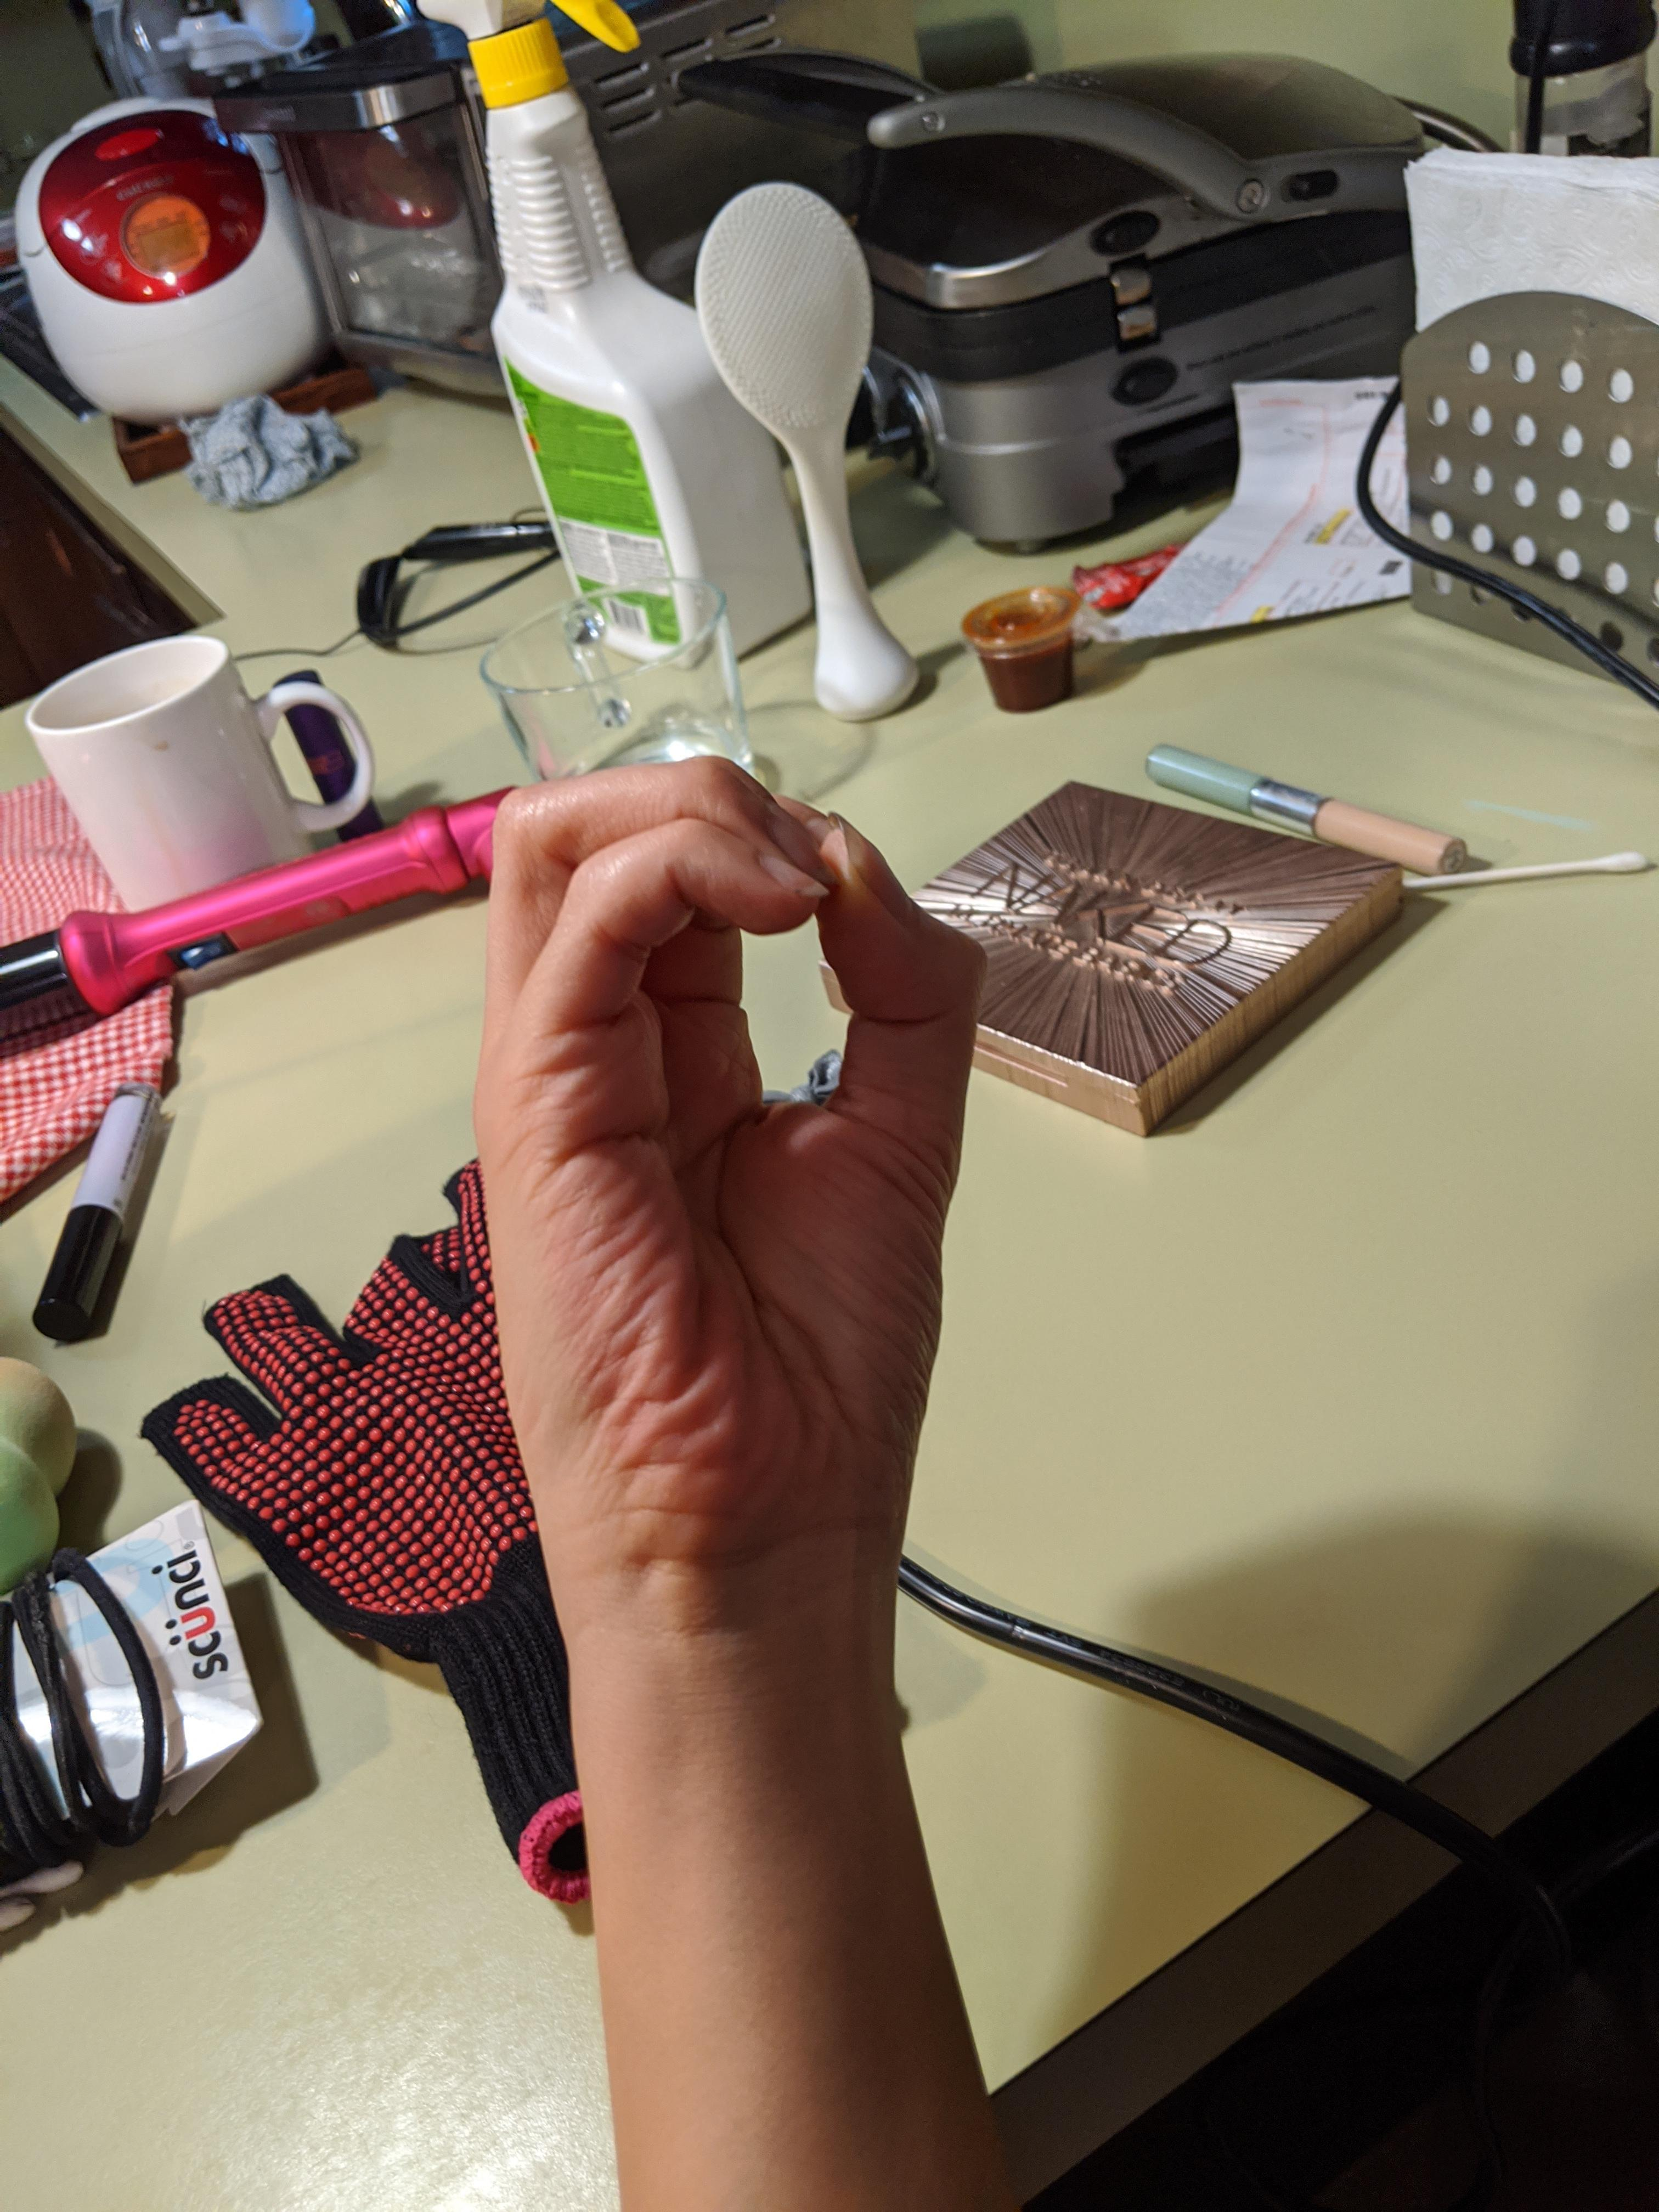O: (453, 742, 1006, 1635)
